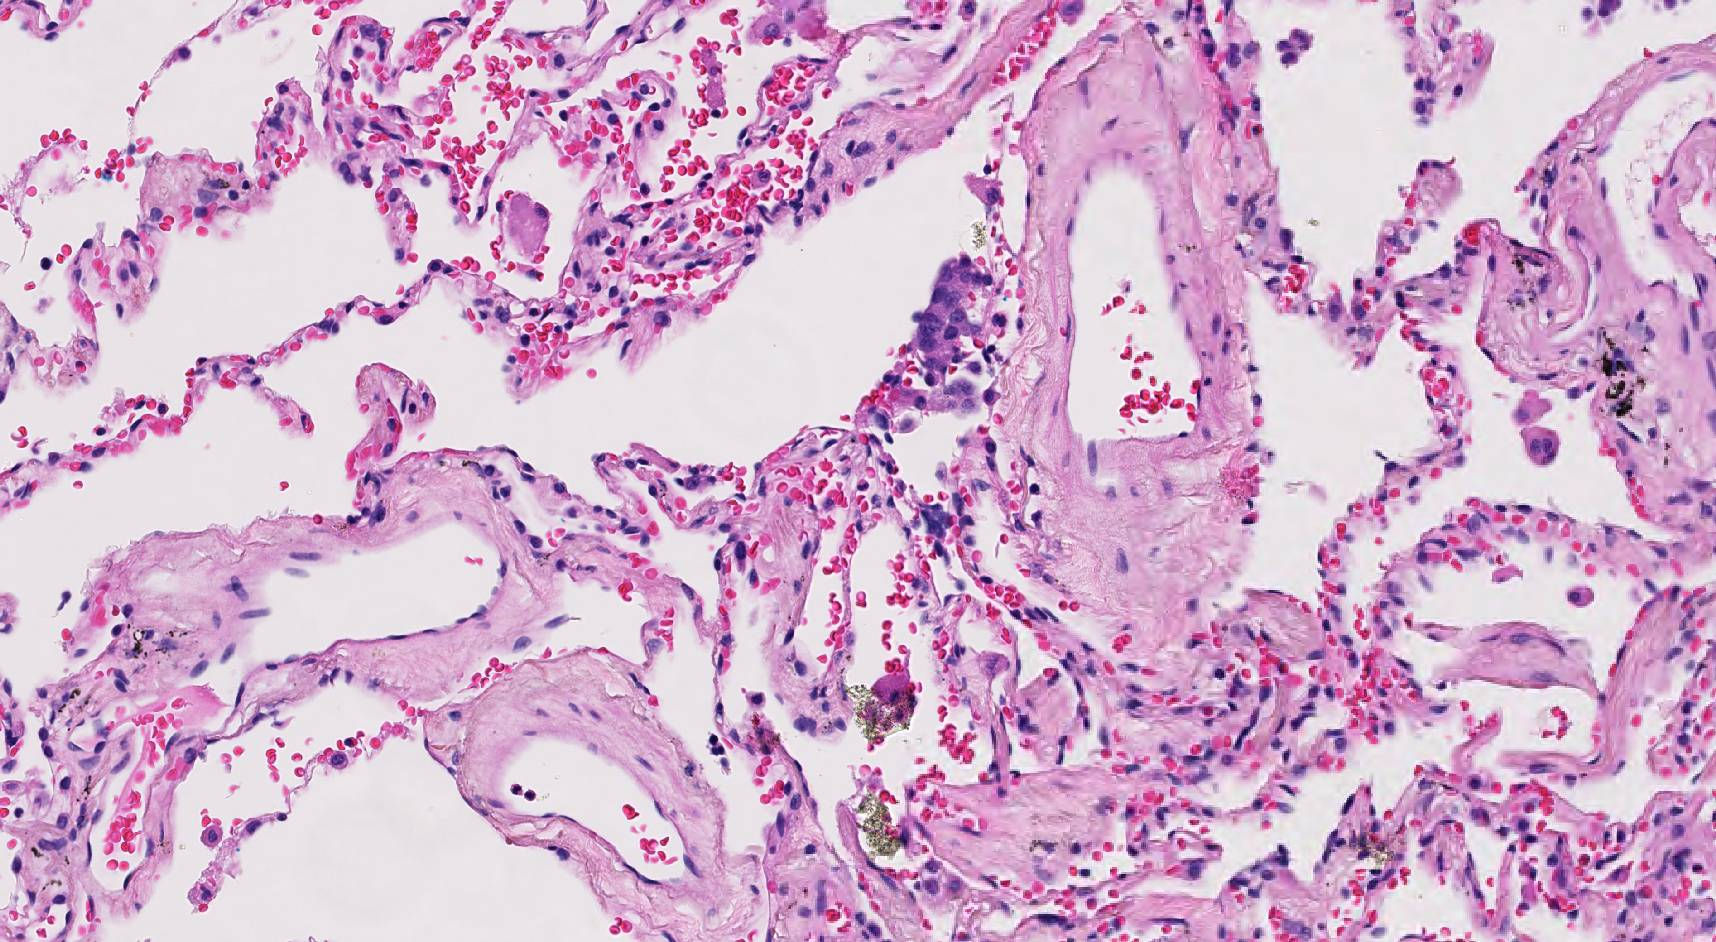stas: (913, 252, 996, 379)
